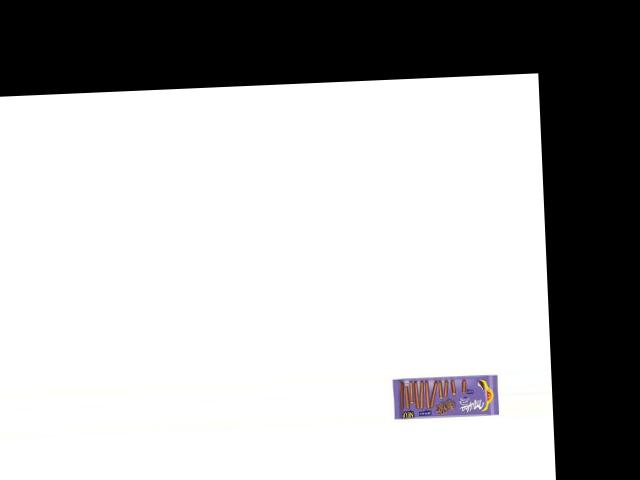chocolate: (390, 369, 500, 420)
